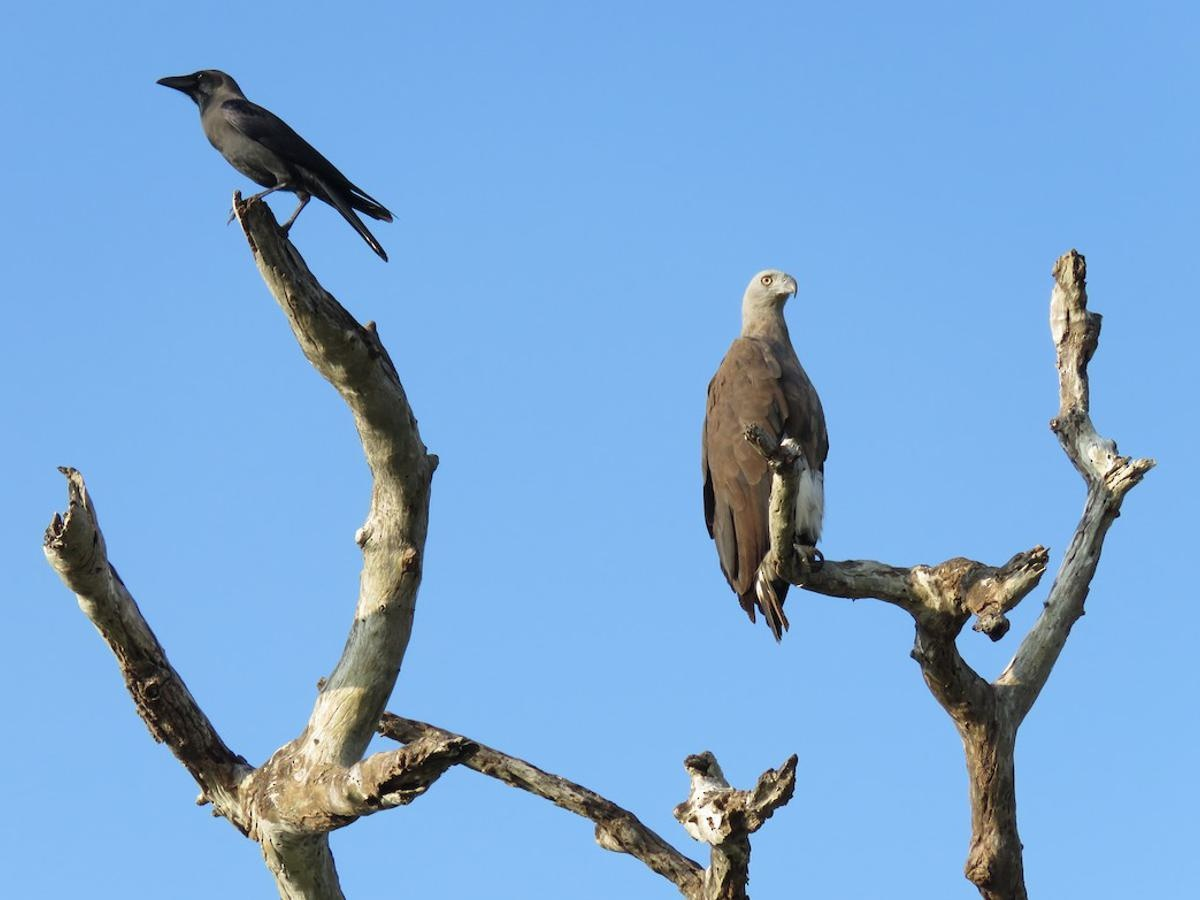crow: (140, 46, 475, 266)
